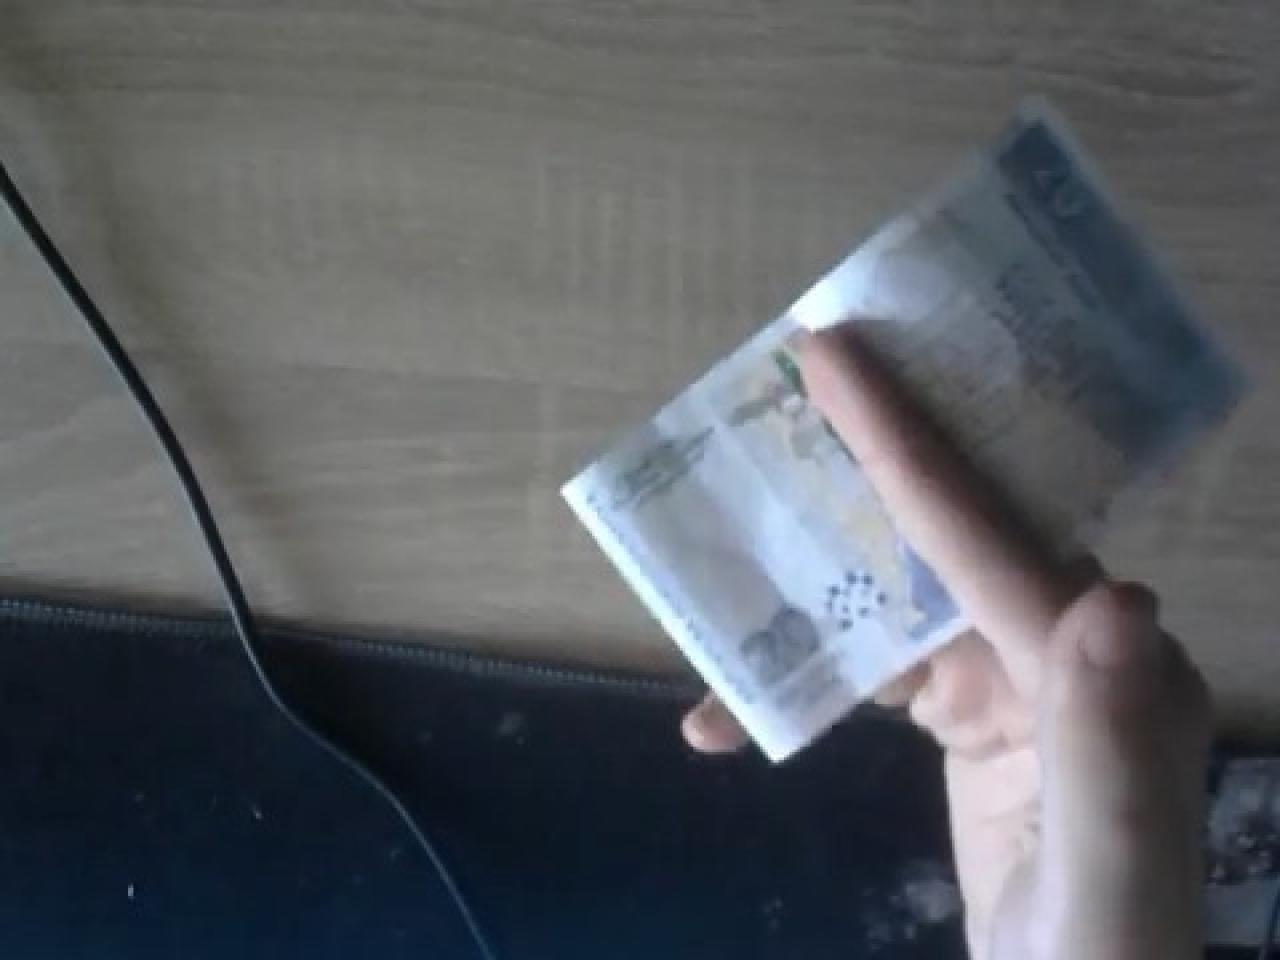20leva: (560, 115, 1232, 760)
